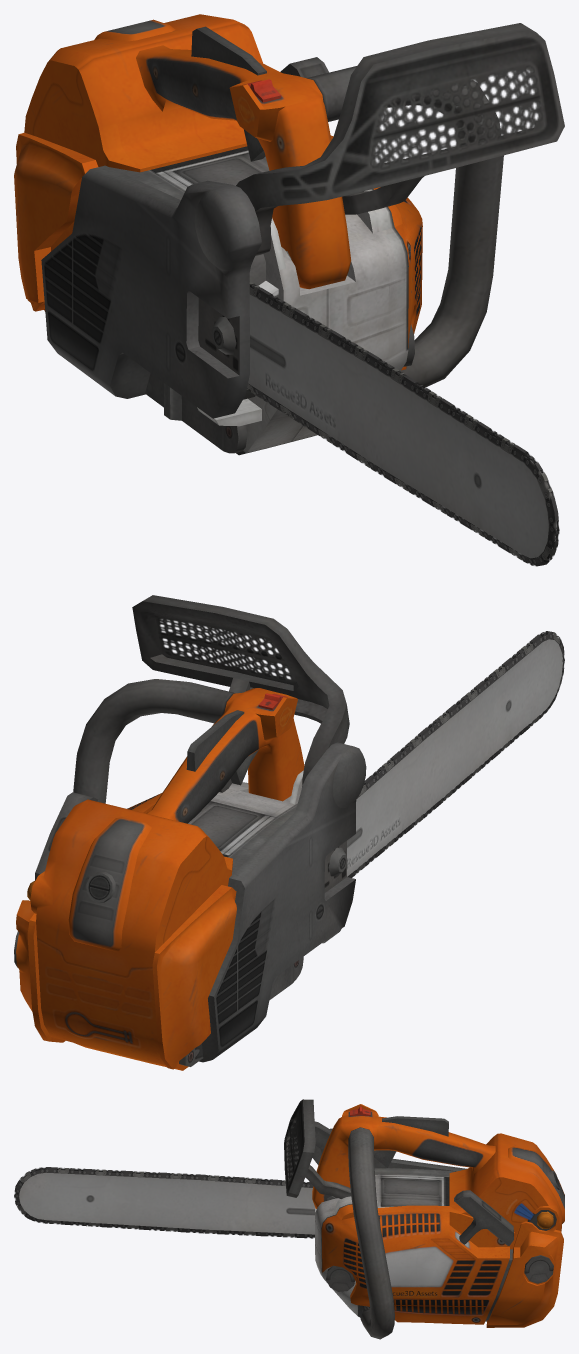
Rendered from chainsaw.glb.
The picture shows the model from 3 angles, top to bottom: view 1: azimuth 30°, elevation 25°; view 2: azimuth 150°, elevation 25°; view 3: azimuth 270°, elevation 25°; orthographic projection. The views are drawn at different scales.
Parts seen in each view (by area): view 1: Chainsaw01_Chainsaw01_0, Chainsaw01_Chainsaw01_Alpha_0, Chainsaw01_Chainsaw01_Chain_0; view 2: Chainsaw01_Chainsaw01_0, Chainsaw01_Chainsaw01_Alpha_0, Chainsaw01_Chainsaw01_Chain_0; view 3: Chainsaw01_Chainsaw01_0, Chainsaw01_Chainsaw01_Chain_0, Chainsaw01_Chainsaw01_Alpha_0.
Part boxes in pixels (x1,y1,x2,y2): Chainsaw01_Chainsaw01_0: (14, 14, 556, 558); Chainsaw01_Chainsaw01_Alpha_0: (325, 30, 564, 199); Chainsaw01_Chainsaw01_Chain_0: (246, 281, 559, 566); Chainsaw01_Chainsaw01_0: (14, 595, 562, 1070); Chainsaw01_Chainsaw01_Alpha_0: (156, 617, 296, 685); Chainsaw01_Chainsaw01_Chain_0: (347, 631, 564, 877); Chainsaw01_Chainsaw01_0: (19, 1099, 564, 1339); Chainsaw01_Chainsaw01_Chain_0: (14, 1167, 314, 1238); Chainsaw01_Chainsaw01_Alpha_0: (284, 1100, 304, 1195).
Size of the model in its own units: 32.98 by 39.89 by 94.26.
3 materials, 3 textured.
